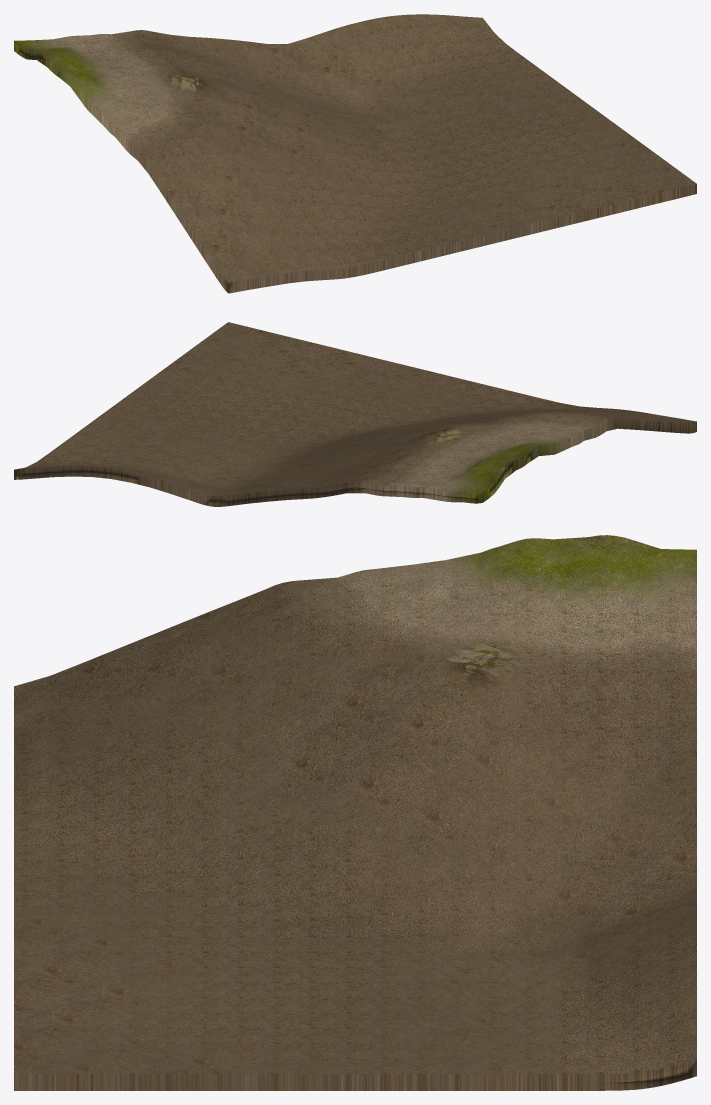
The model's file is chunk_3_5.glb.
The picture shows the model from 3 angles, top to bottom: view 1: azimuth 30°, elevation 25°; view 2: azimuth 150°, elevation 25°; view 3: azimuth 270°, elevation 25°; orthographic projection. The views are drawn at different scales.
Parts seen in each view (by area): view 1: Terrain_L2, Terrain_L0, Terrain_L1; view 2: Terrain_L2, Terrain_L0, Terrain_L1; view 3: Terrain_L2, Terrain_L0, Terrain_L1.
Boxes of the visible parts, x1,y1,x2,y2 form: Terrain_L2: (14,14,696,292); Terrain_L0: (14,14,696,293); Terrain_L1: (14,15,678,292); Terrain_L2: (14,322,696,506); Terrain_L0: (14,408,696,506); Terrain_L1: (14,406,696,506); Terrain_L2: (14,537,696,1090); Terrain_L0: (14,535,696,1090); Terrain_L1: (14,535,696,1090).
Bounding box in the file's own units: 96 × 23.47 × 76.01.
1 material, 1 textured.
